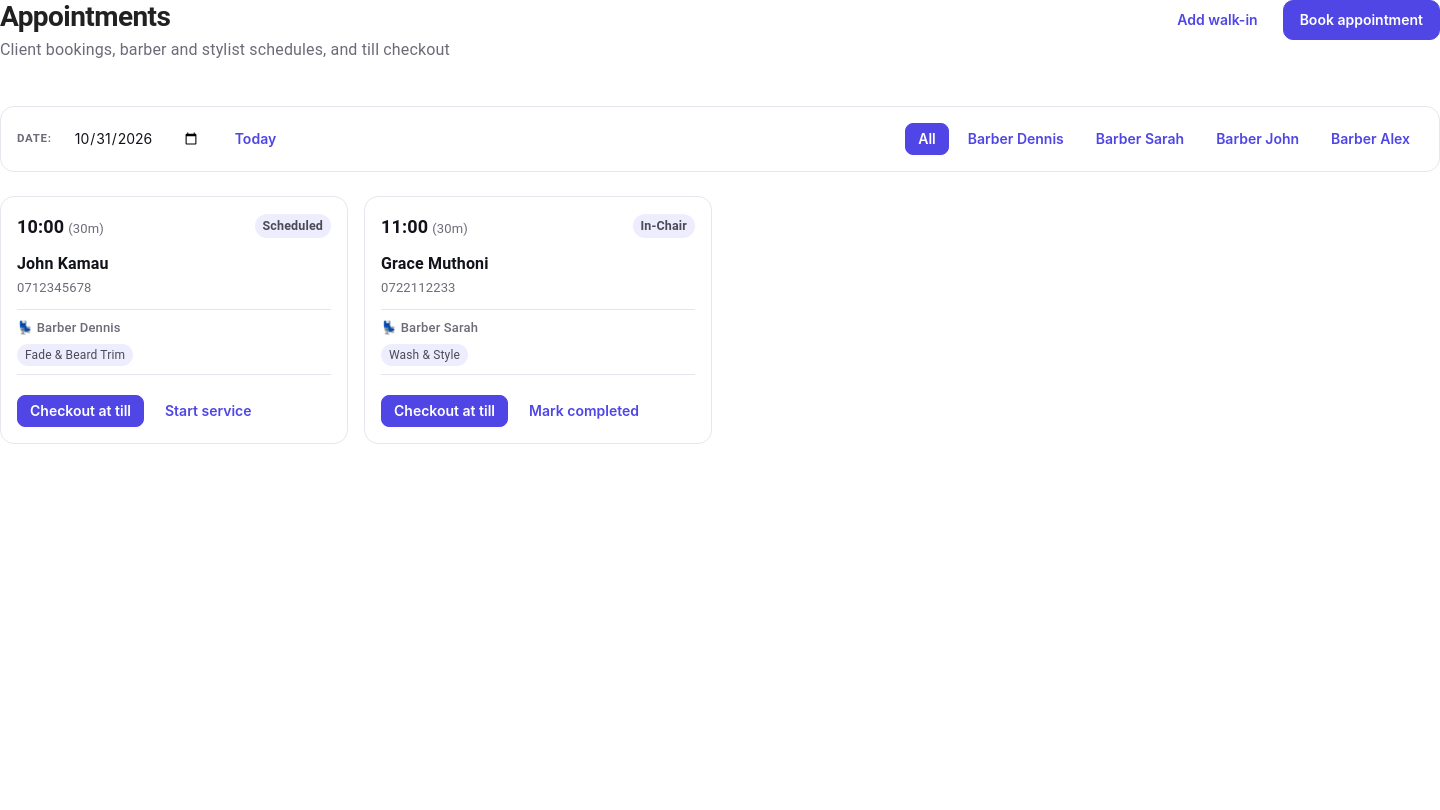
Test case: AppointmentsPage › opens book appointment dialog on "Add walk-in" button click
Click the button "Add walk-in": click(1218, 20) x1=1160 y1=0 x2=1275 y2=40
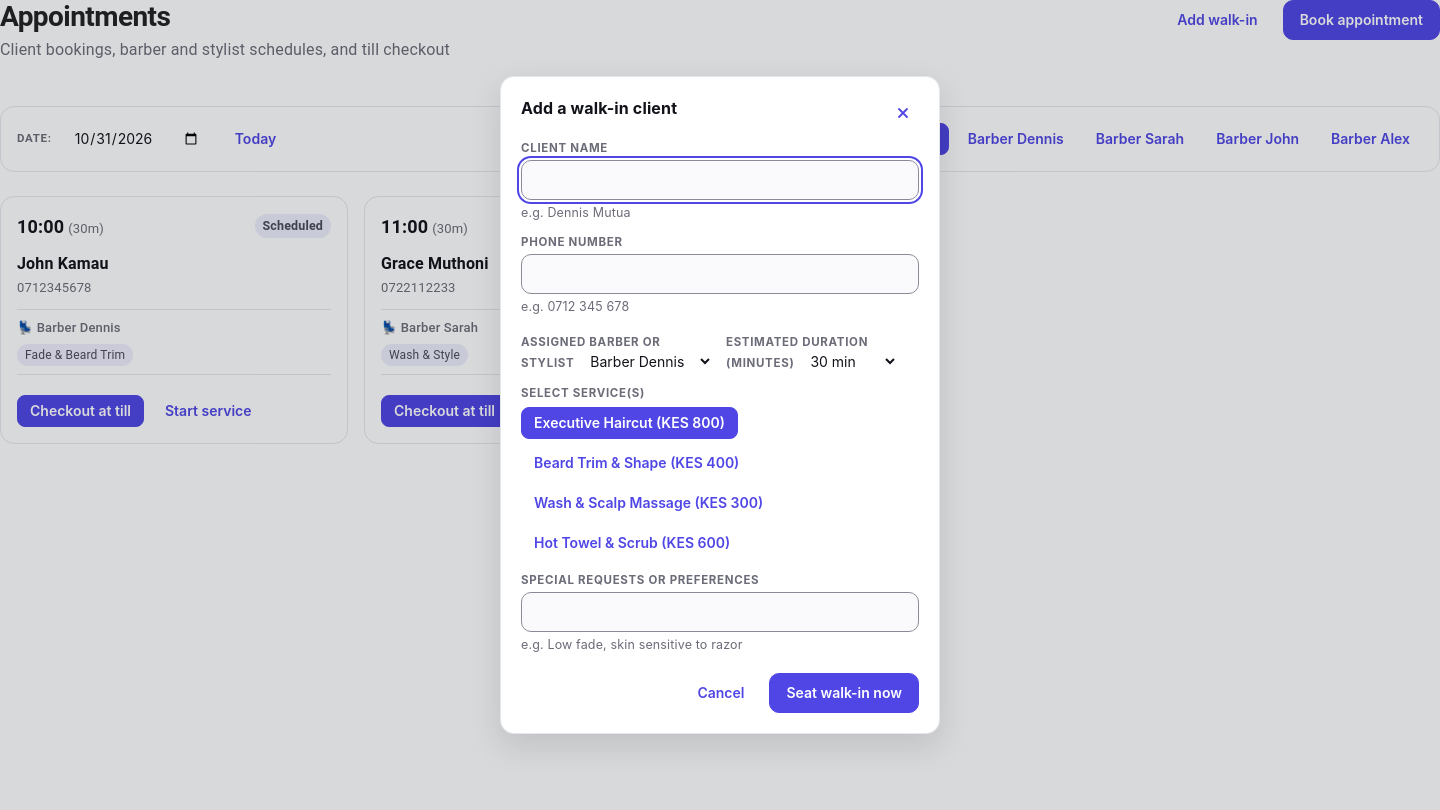
Now the heading "Add a walk-in client" is shown, box x1=521 y1=97 x2=677 y2=119
